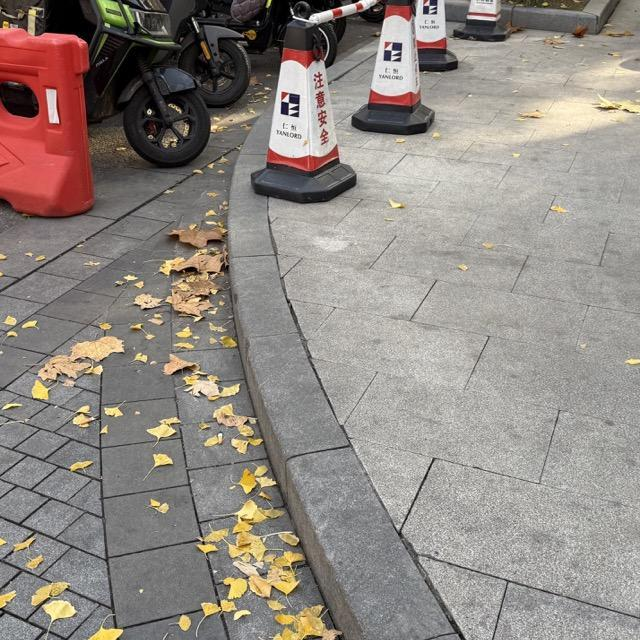curb: (229, 112, 456, 639)
